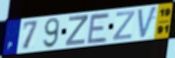7: (22, 19, 39, 52)
9: (41, 17, 61, 49)
E: (85, 12, 111, 45)
V: (137, 5, 159, 41)
Z: (64, 14, 90, 47), (111, 10, 137, 42)
